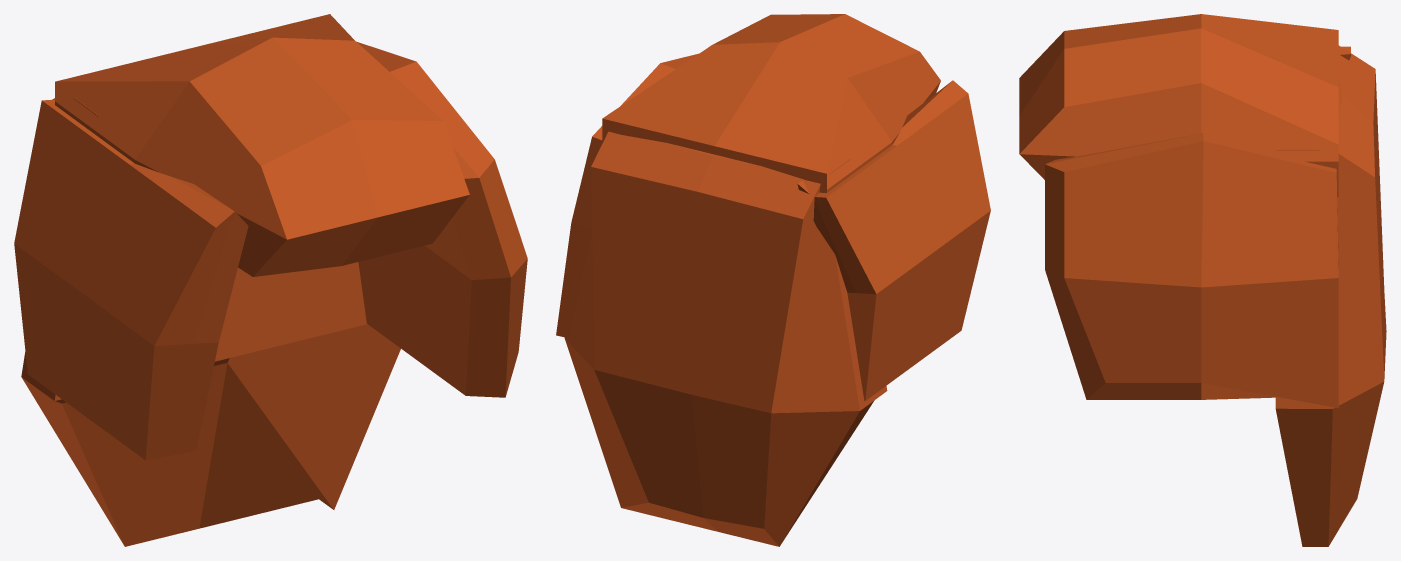
File: FemaleHair.fbx
3 views of the same model, side by side, from view 1: azimuth 30°, elevation 25°; view 2: azimuth 150°, elevation 25°; view 3: azimuth 270°, elevation 25° (orthographic). The views are drawn at different scales.
Parts seen in each view (by area): view 1: polySurface2; view 2: polySurface2; view 3: polySurface2.
Part boxes in pixels (bbox=[...]): polySurface2: bbox=[14, 14, 527, 546]; polySurface2: bbox=[556, 14, 990, 546]; polySurface2: bbox=[1019, 14, 1386, 546].
Bounding box in the file's own units: 11.27 × 14.85 × 10.54.
